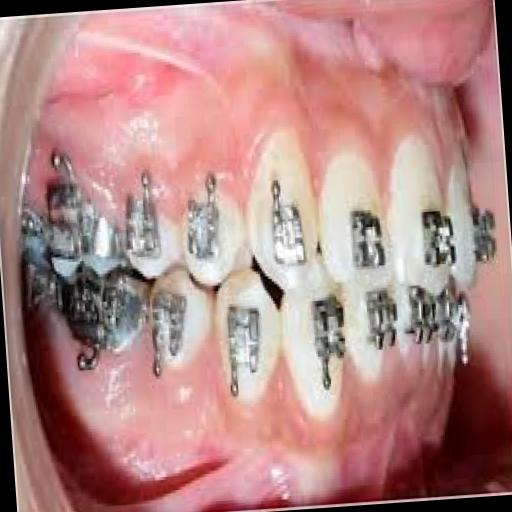correct_brace: (181, 170, 250, 296), (260, 181, 312, 274), (417, 196, 456, 282), (344, 208, 387, 274)
incorrect_brace: (314, 148, 390, 297), (184, 192, 228, 268)
